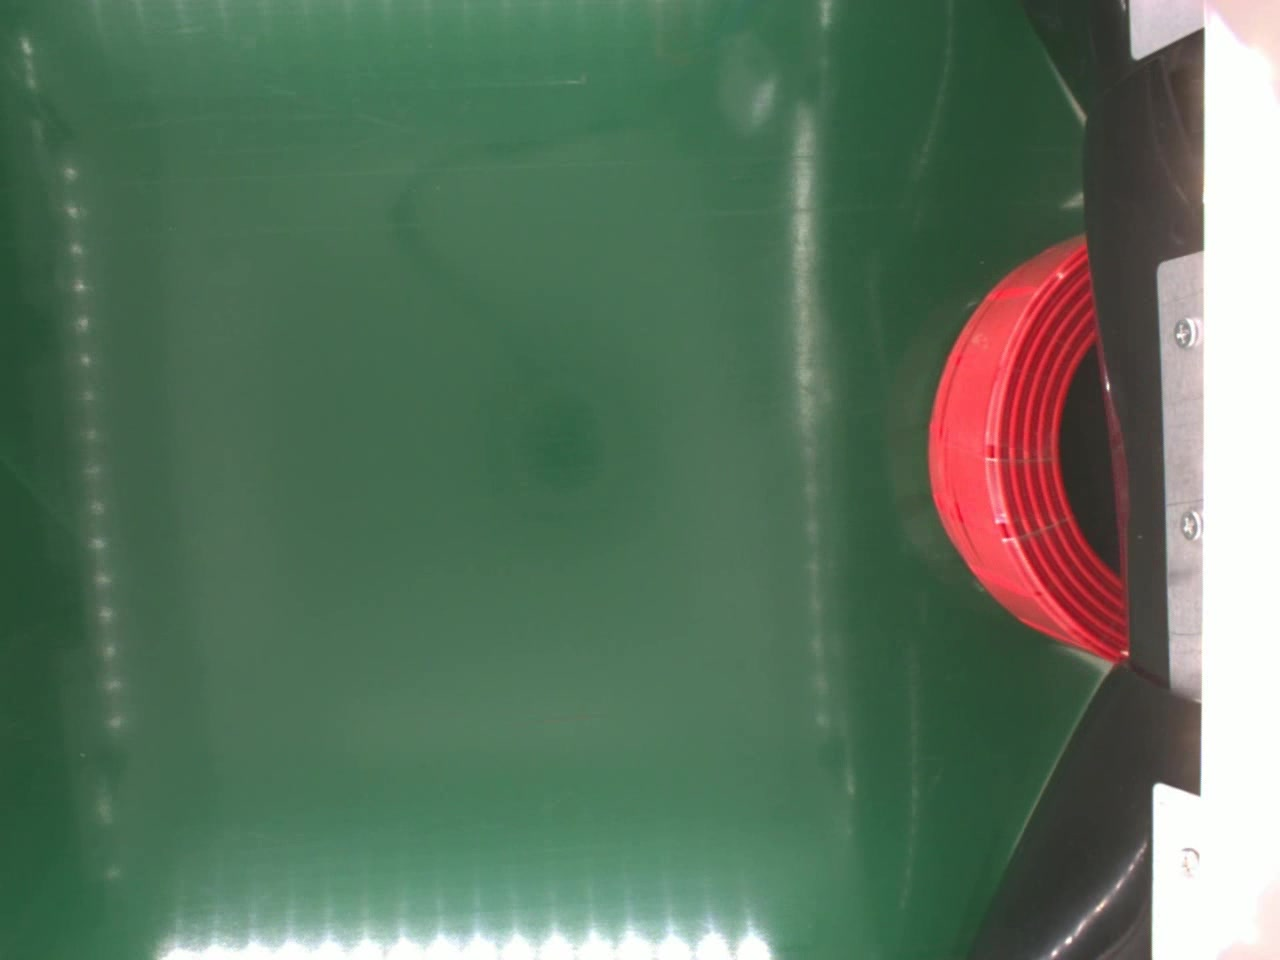red: (924, 231, 1129, 667)
